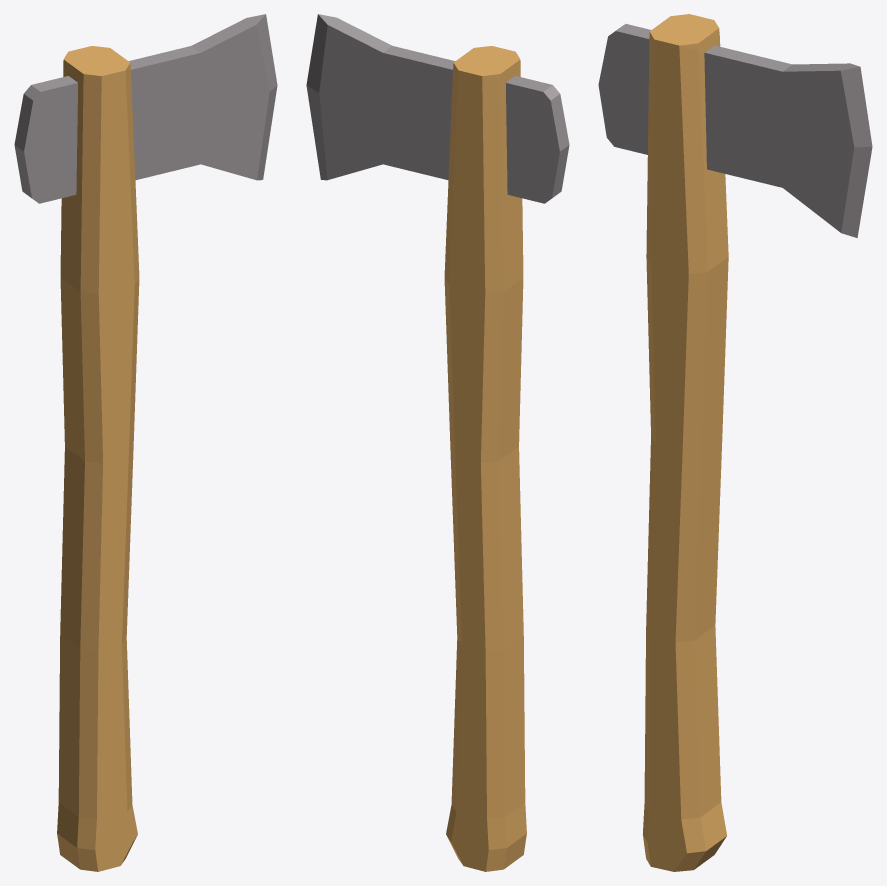
The model's file is B_Base_Axe_Model.fbx.
3 renders of one model, left to right at view 1: azimuth 30°, elevation 25°; view 2: azimuth 150°, elevation 25°; view 3: azimuth 330°, elevation 25°, orthographic. The views are drawn at different scales.
Parts seen in each view (by area): view 1: Cube, Cube.001; view 2: Cube, Cube.001; view 3: Cube, Cube.001.
Part boxes in pixels (x1,y1,x2,y2): Cube: [57, 46, 139, 871]; Cube.001: [14, 14, 277, 203]; Cube: [444, 46, 526, 871]; Cube.001: [306, 14, 569, 203]; Cube: [643, 14, 728, 871]; Cube.001: [598, 24, 872, 238].
Bounding box in the file's own units: 21.81 × 64.62 × 4.9.
